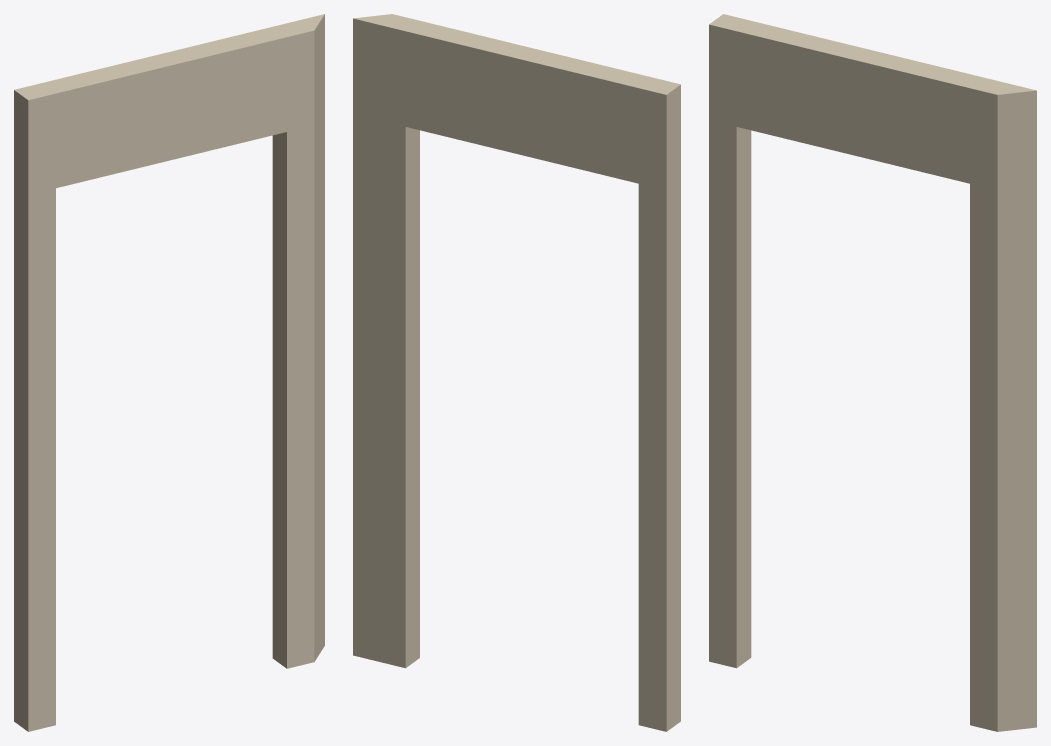
Rendered from wall-12.glb.
The picture shows the model from 3 angles, left to right: view 1: azimuth 30°, elevation 25°; view 2: azimuth 150°, elevation 25°; view 3: azimuth 330°, elevation 25°; orthographic projection.
Size of the model in its own units: 4.12 by 8 by 0.3282.
